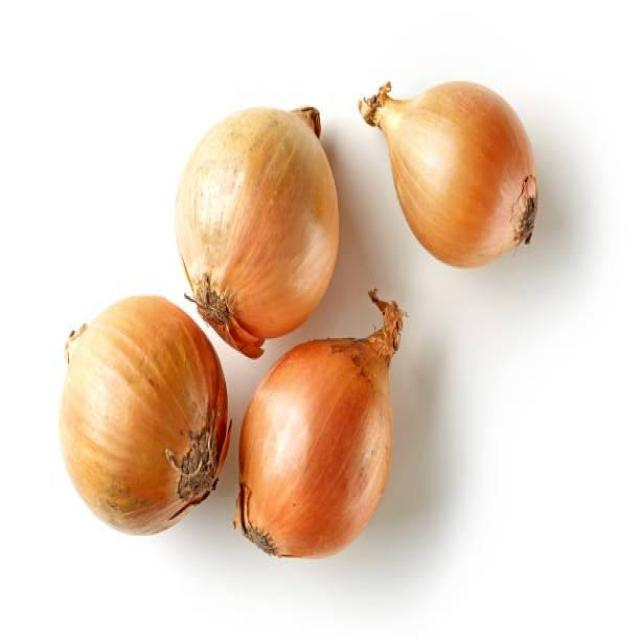Onion: (235, 290, 404, 556), (59, 296, 229, 533), (176, 107, 337, 357), (359, 81, 538, 266)
